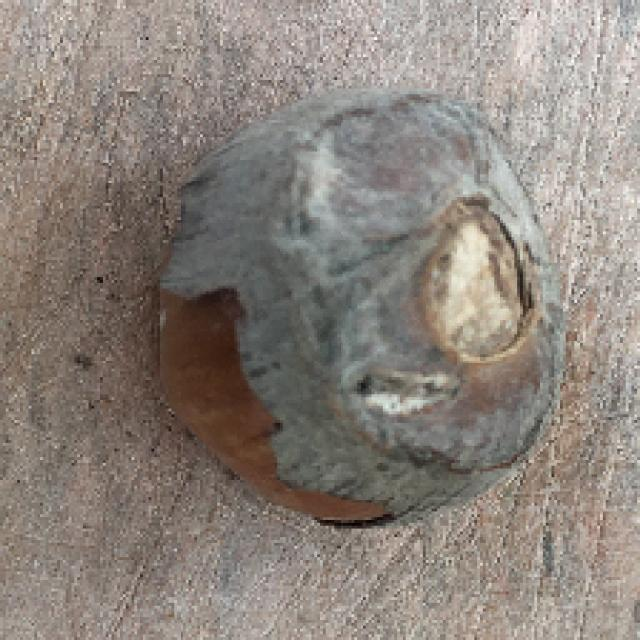damagedHazelnut: (125, 79, 590, 544)
